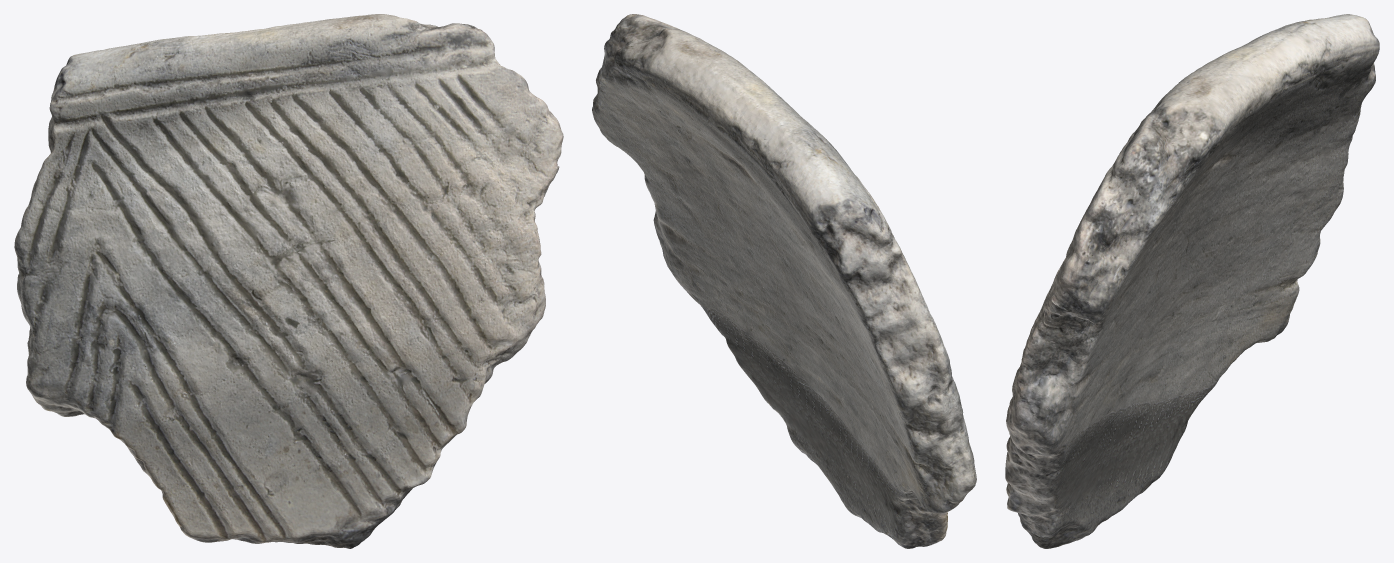
Rendered from fpan_incised.glb.
3 views of the same model, side by side, from view 1: azimuth 30°, elevation 25°; view 2: azimuth 150°, elevation 25°; view 3: azimuth 270°, elevation 25° (orthographic). The views are drawn at different scales.
Parts seen in each view (by area): view 1: Object_4, Object_5, Object_3, Object_6, Object_7, Object_2, Object_8; view 2: Object_2, Object_6, Object_7, Object_3, Object_5, Object_8; view 3: Object_7, Object_6, Object_2, Object_5, Object_3, Object_4, Object_8.
Part boxes in pixels (<box>): Object_4: <box>332,45,563,542</box>; Object_5: <box>198,14,522,543</box>; Object_3: <box>262,23,499,548</box>; Object_6: <box>123,14,377,542</box>; Object_7: <box>41,28,266,471</box>; Object_2: <box>14,17,429,543</box>; Object_8: <box>21,40,155,416</box>; Object_2: <box>599,27,967,513</box>; Object_6: <box>621,45,947,548</box>; Object_7: <box>688,89,929,538</box>; Object_3: <box>592,14,823,473</box>; Object_5: <box>596,32,869,524</box>; Object_8: <box>758,147,976,507</box>; Object_7: <box>1166,20,1313,467</box>; Object_6: <box>1113,43,1252,514</box>; Object_2: <box>1073,14,1379,541</box>; Object_5: <box>1020,67,1205,540</box>; Object_3: <box>1035,101,1162,548</box>; Object_4: <box>1005,153,1121,543</box>; Object_8: <box>1246,16,1338,348</box>.
Size of the model in its own units: 1.84 by 1.82 by 1.23.
1 material, 1 textured.
